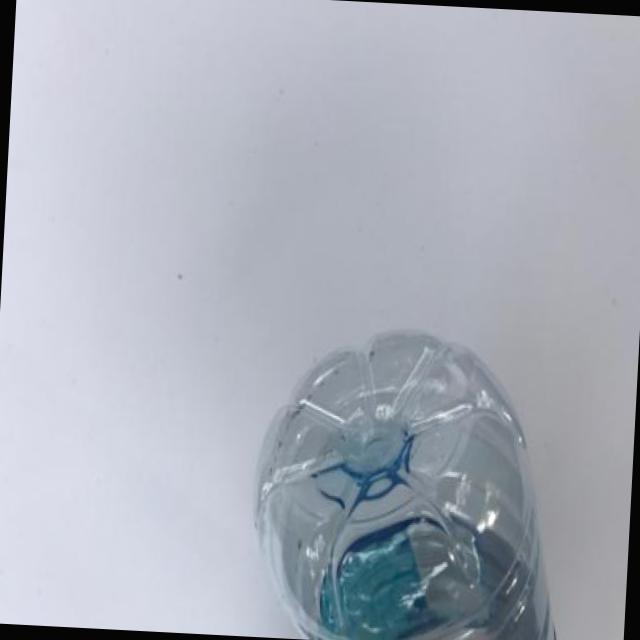Recycle: (252, 331, 574, 640)
